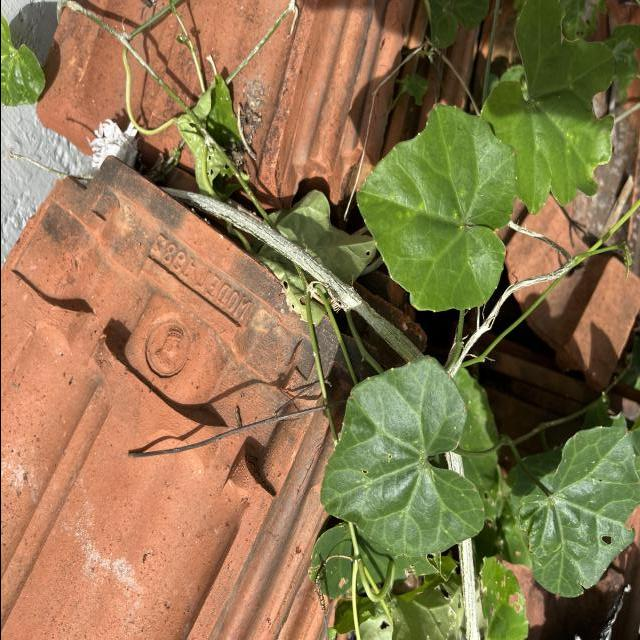Coccinia grandis: (317, 353, 485, 560), (354, 102, 517, 314)
